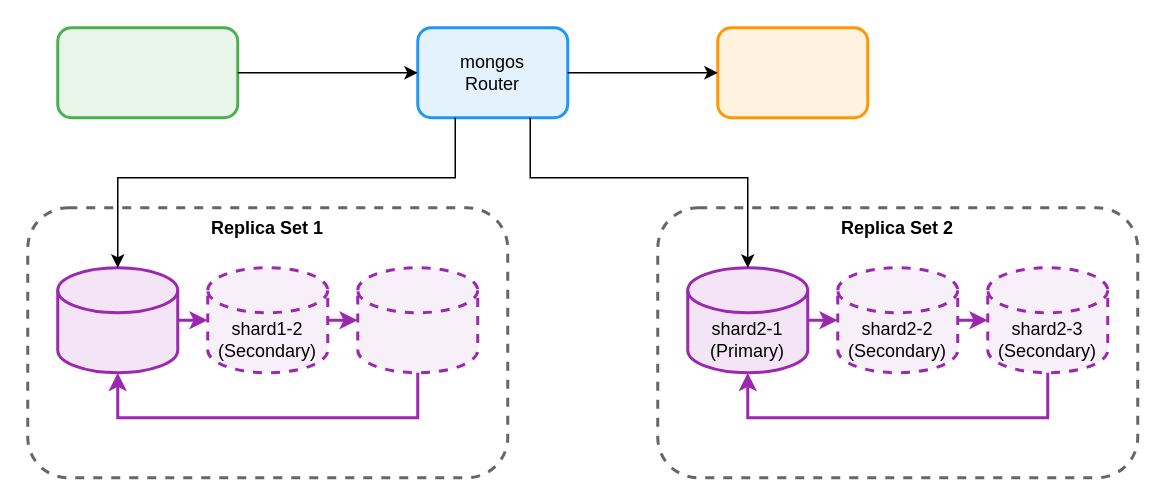
This 1164x504 diagram has some shape labels left out. Here are the shapes that lost their labels. From the top down, the centre of each, then its label:
the point at 147,72: pymongo-api
the point at 792,72: configSrv
the point at 117,320: shard1-1 (Primary)
the point at 417,320: shard1-3 (Secondary)
